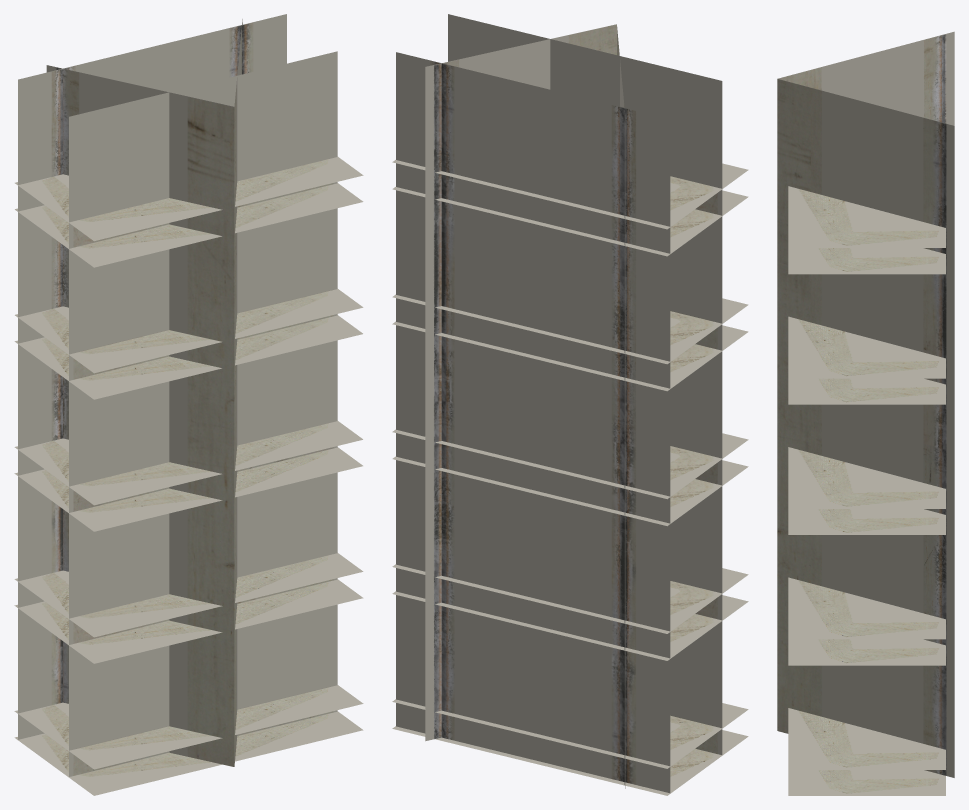
File: steel 1 ld.fbx
3 views of the same model, side by side, from view 1: azimuth 30°, elevation 25°; view 2: azimuth 150°, elevation 25°; view 3: azimuth 270°, elevation 25° (orthographic). The views are drawn at different scales.
Parts seen in each view (by area): view 1: Plane_002; view 2: Plane_002; view 3: Plane_002.
Part boxes in pixels (x1=…): Plane_002: x1=14, y1=14, x2=363, y2=795; Plane_002: x1=392, y1=14, x2=748, y2=795; Plane_002: x1=777, y1=31, x2=954, y2=795.
Size of the model in its own units: 214 by 500 by 123.
